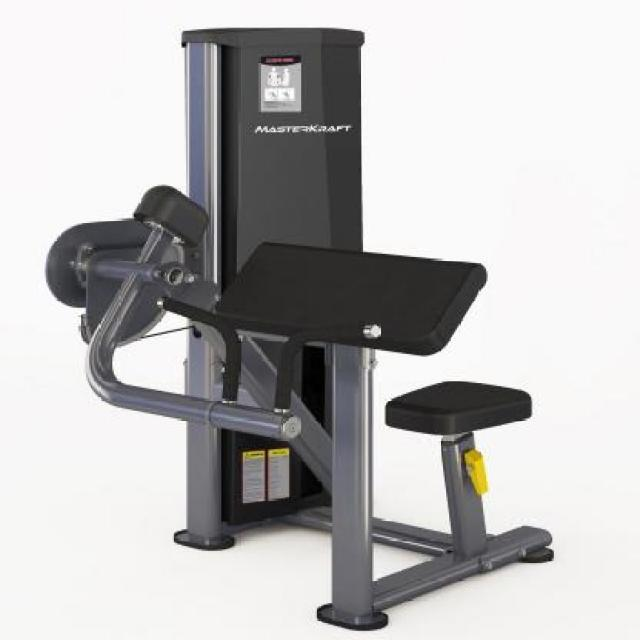arm curl machine: (44, 28, 554, 630)
